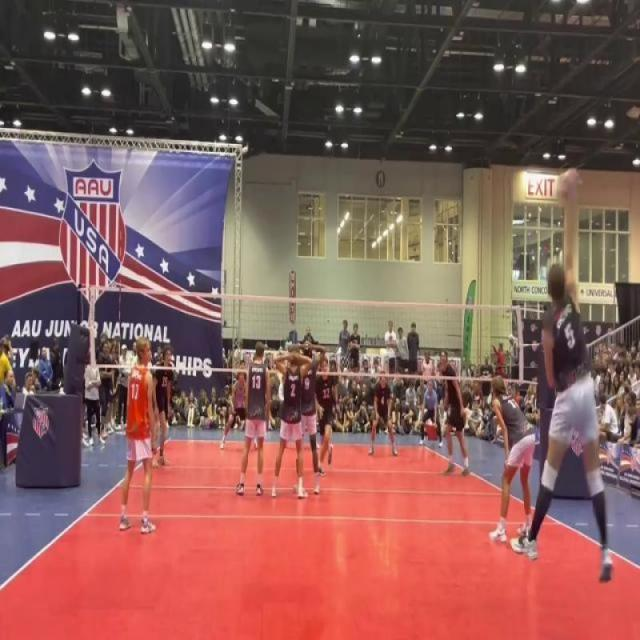volleyball: (556, 160, 581, 212)
